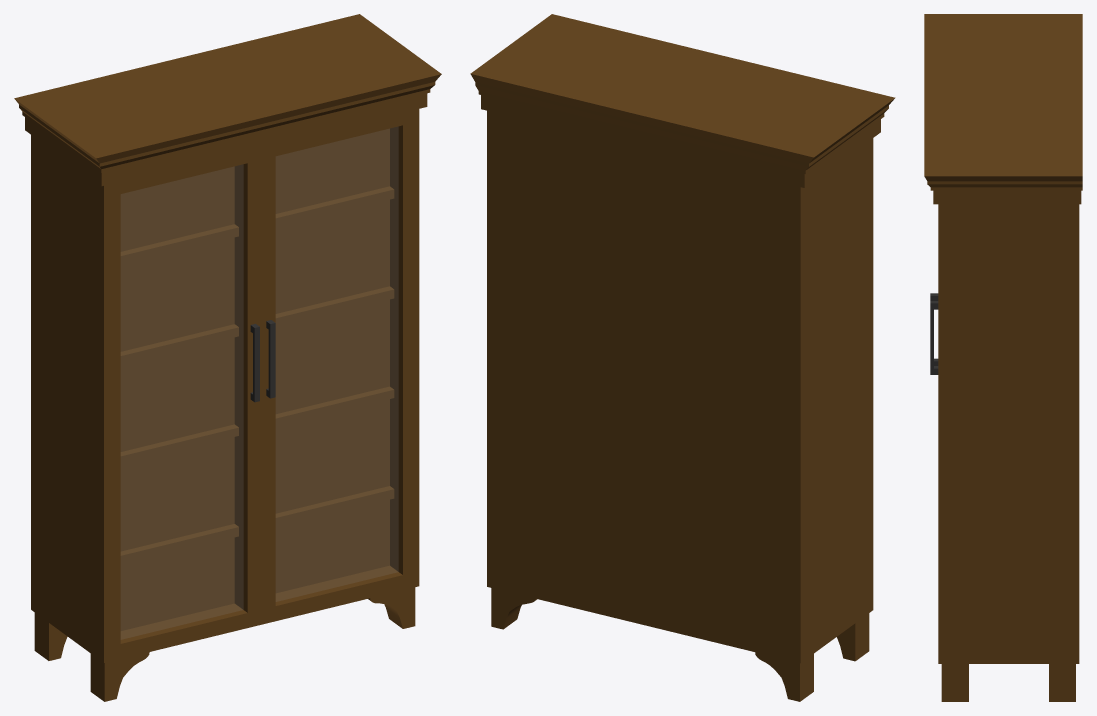
The model's file is geo_bookCase_V2_01.fbx.
3 views of the same model, side by side, from view 1: azimuth 30°, elevation 25°; view 2: azimuth 150°, elevation 25°; view 3: azimuth 270°, elevation 25° (orthographic). The views are drawn at different scales.
Visible parts, largest first — view 1: geo_bookCase_01, geo_geo_bookcaseGlass_01, geo_bookcaseLeg_01, geo_bookcaseLeg_04, geo_bookcaseLeg_02; view 2: geo_bookCase_01, geo_bookcaseLeg_02, geo_bookcaseLeg_03, geo_bookcaseLeg_01; view 3: geo_bookCase_01, geo_bookcaseLeg_04, geo_bookcaseLeg_03, geo_bookcaseHandle_01.
Boxes of the visible parts, x1,y1,x2,y2 form: geo_bookCase_01: (14, 14, 441, 662); geo_geo_bookcaseGlass_01: (121, 127, 397, 639); geo_bookcaseLeg_01: (90, 652, 149, 701); geo_bookcaseLeg_04: (368, 587, 415, 628); geo_bookcaseLeg_02: (34, 612, 67, 660); geo_bookCase_01: (470, 14, 895, 663); geo_bookcaseLeg_02: (755, 652, 813, 701); geo_bookcaseLeg_03: (491, 588, 537, 629); geo_bookcaseLeg_01: (837, 613, 869, 661); geo_bookCase_01: (924, 14, 1082, 663); geo_bookcaseLeg_04: (941, 664, 968, 701); geo_bookcaseLeg_03: (1049, 664, 1075, 701); geo_bookcaseHandle_01: (930, 301, 938, 374).
Size of the model in its own units: 92.88 by 142 by 38.24.
